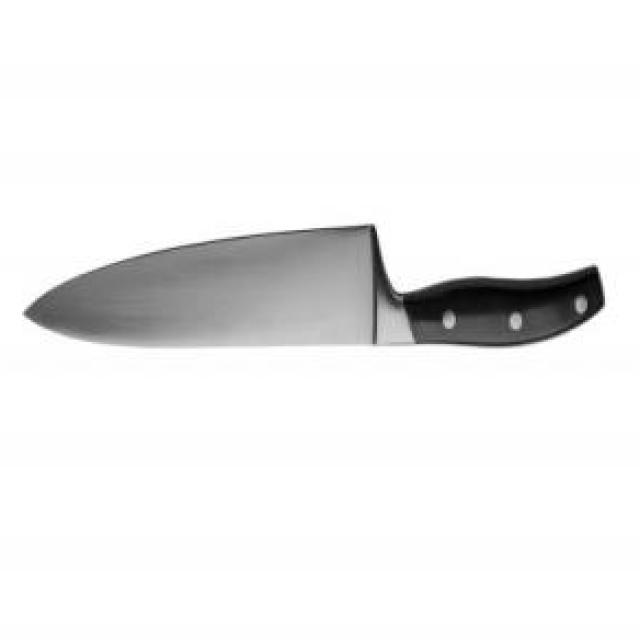knife: (15, 223, 618, 359)
